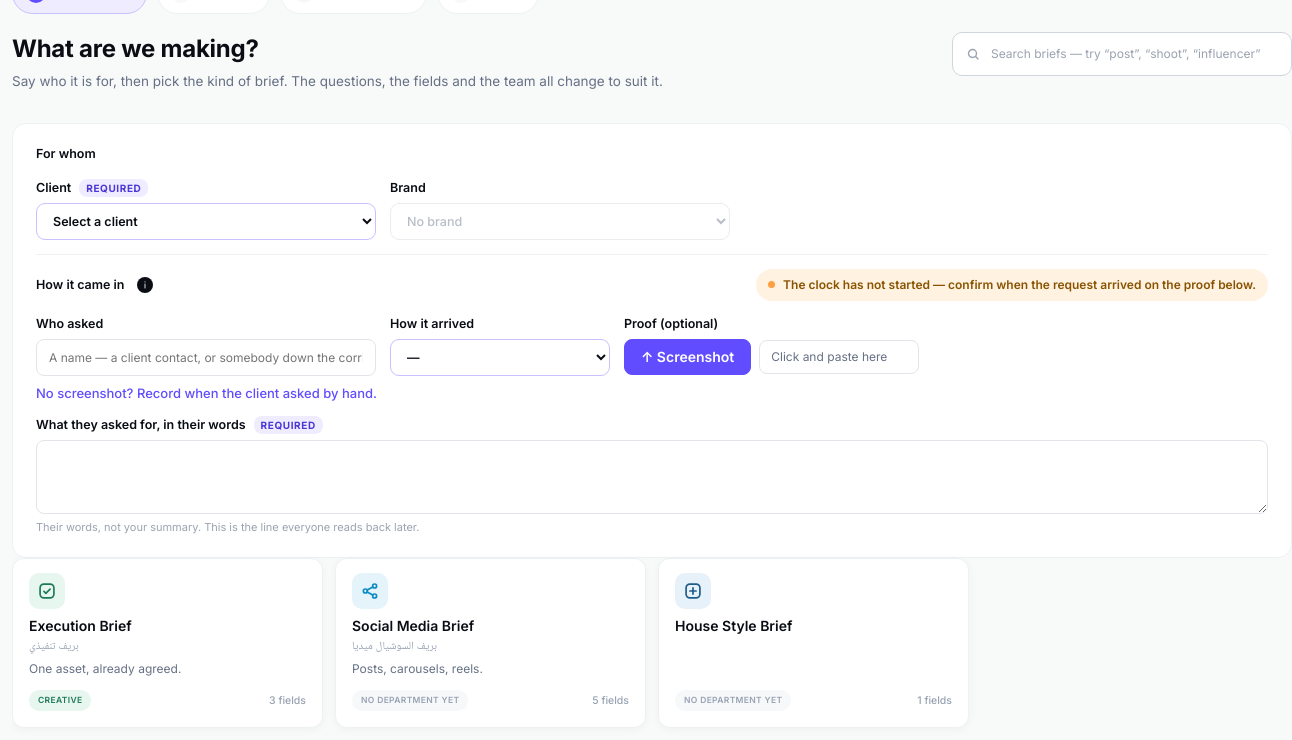
SingleJobWizard — SJ-v3-01 what are we making? (Figma B · SINGLE JOB — BRIEF FIRST, 22 Sep) › a pressed card is the choice, and Next is named after it
The width and height of the screenshot is (1292, 740).
Click the button with test id "sj-brief-card-social_calendar" at (370, 591), box [335,558,646,728]
(page scrolled)
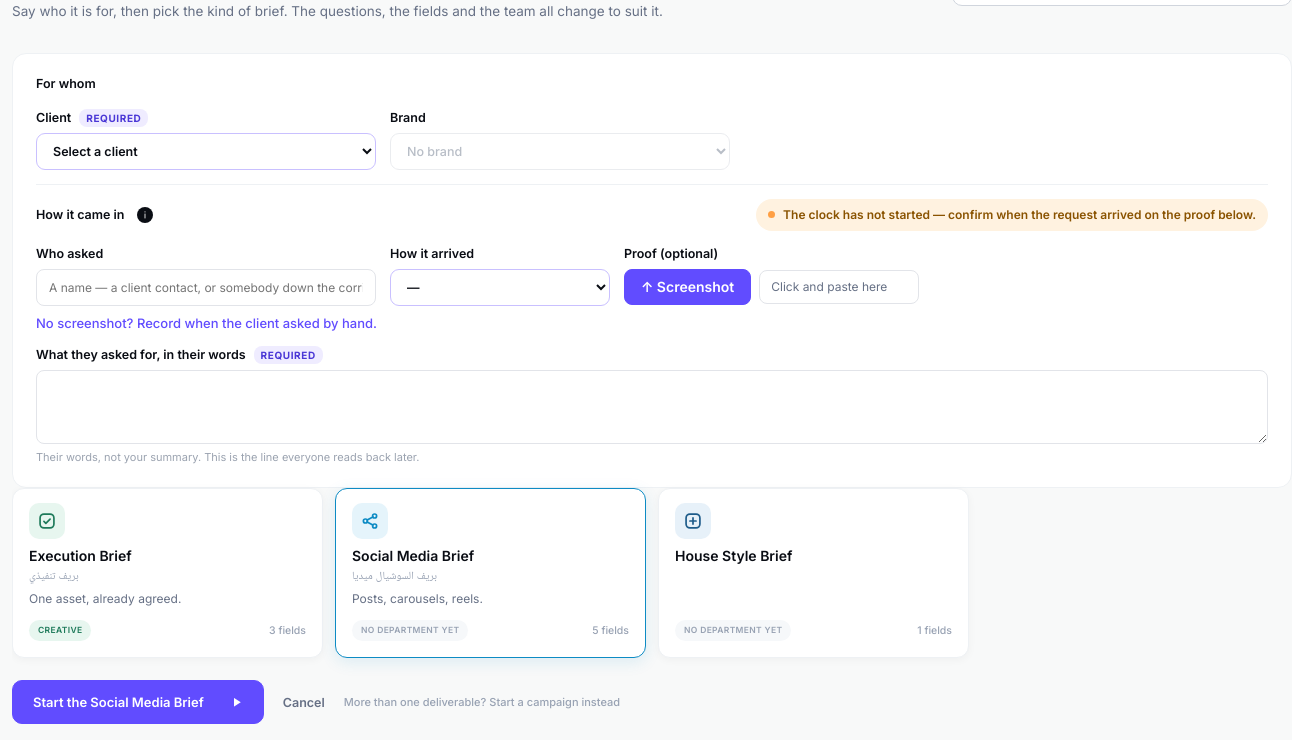
Now the button with test id "sj-next" reads "Start the Social Media Brief", box [12,680,264,724]
